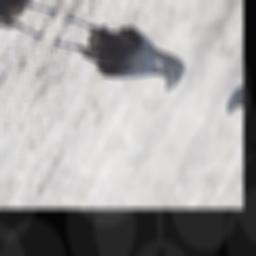Crow: (43, 3, 199, 103)
